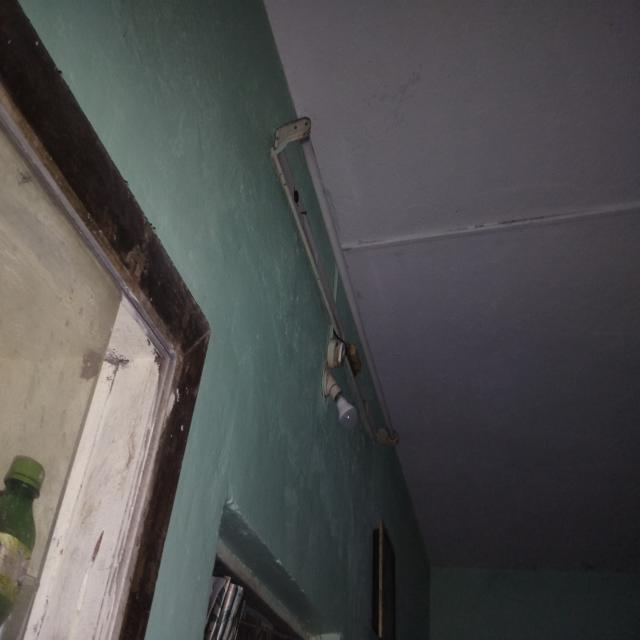tubelight_off: (265, 112, 403, 447)
